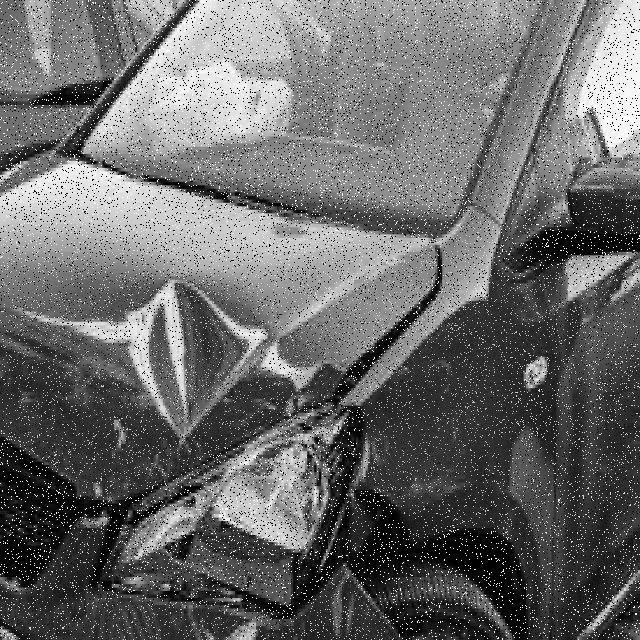bonnet-dent: (2, 207, 402, 494)
